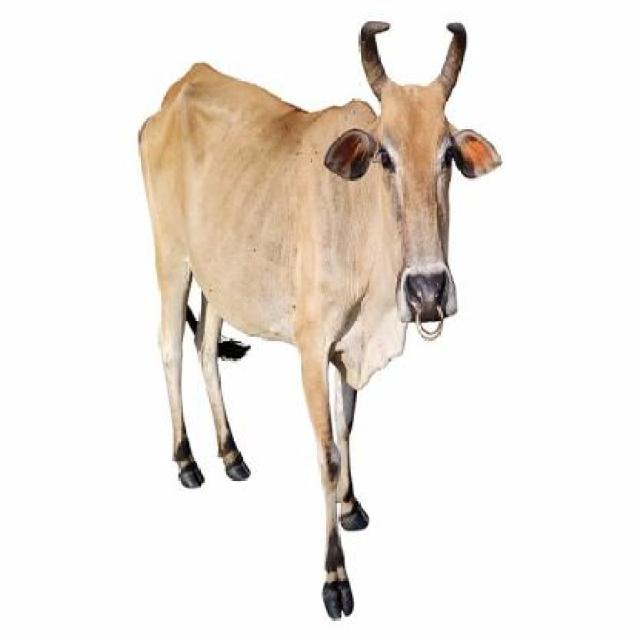Cow: (137, 20, 503, 615)
